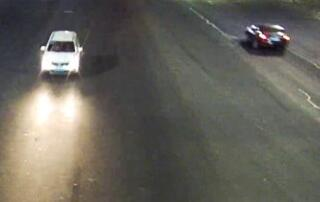car: (38, 28, 84, 79), (245, 19, 291, 55)
